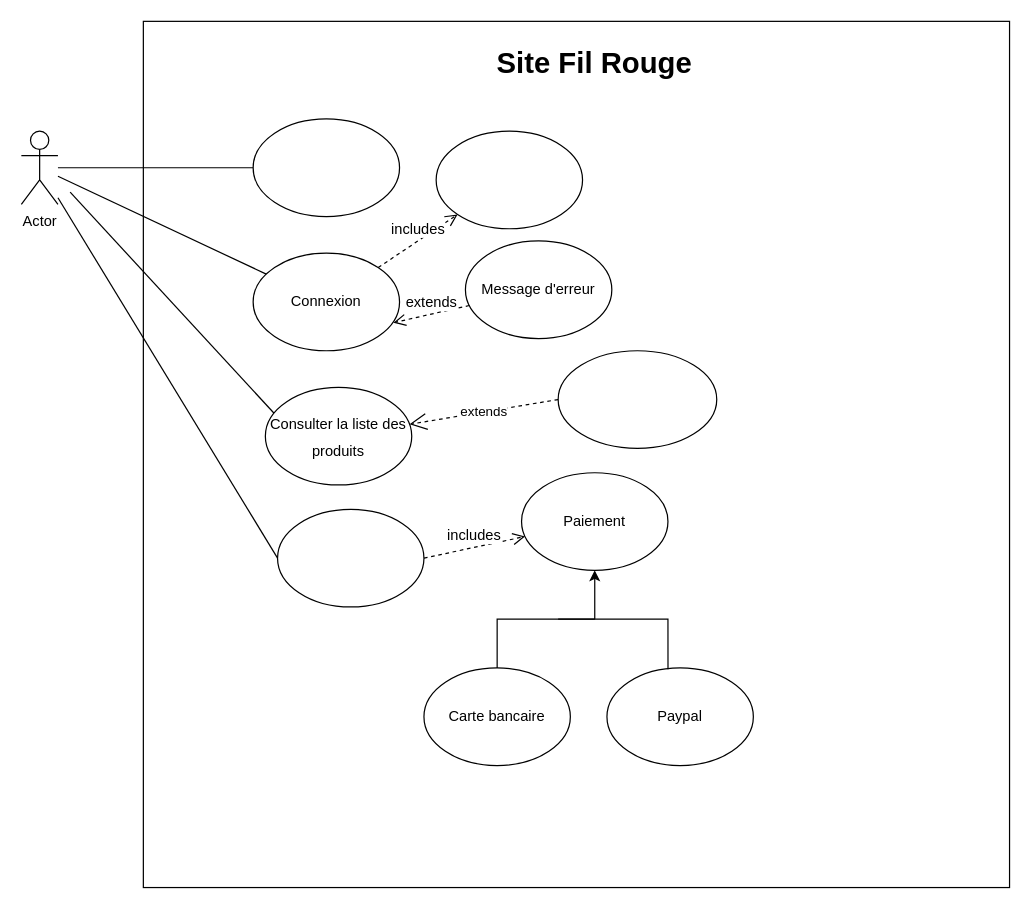
Image size: 1031x909. Some labels were removed from this diagram. Each missing label, with the box of its shape:
Achat des produits: (276, 508, 424, 607)
Consulter la liste des catégories et souscatégories: (557, 350, 717, 448)
Inscription: (252, 118, 400, 217)
Vérification mot de passe: (435, 130, 583, 229)
